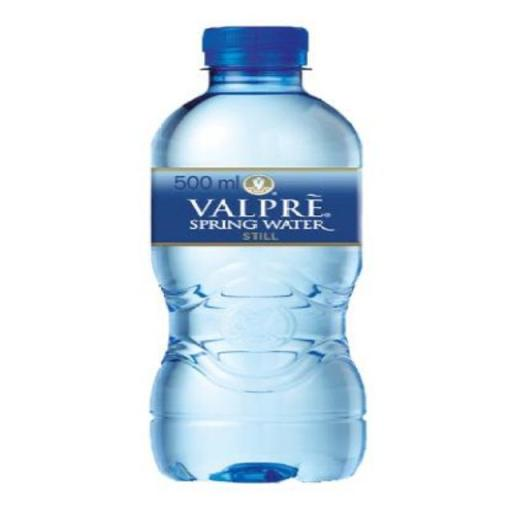Coca: (113, 13, 399, 493)
